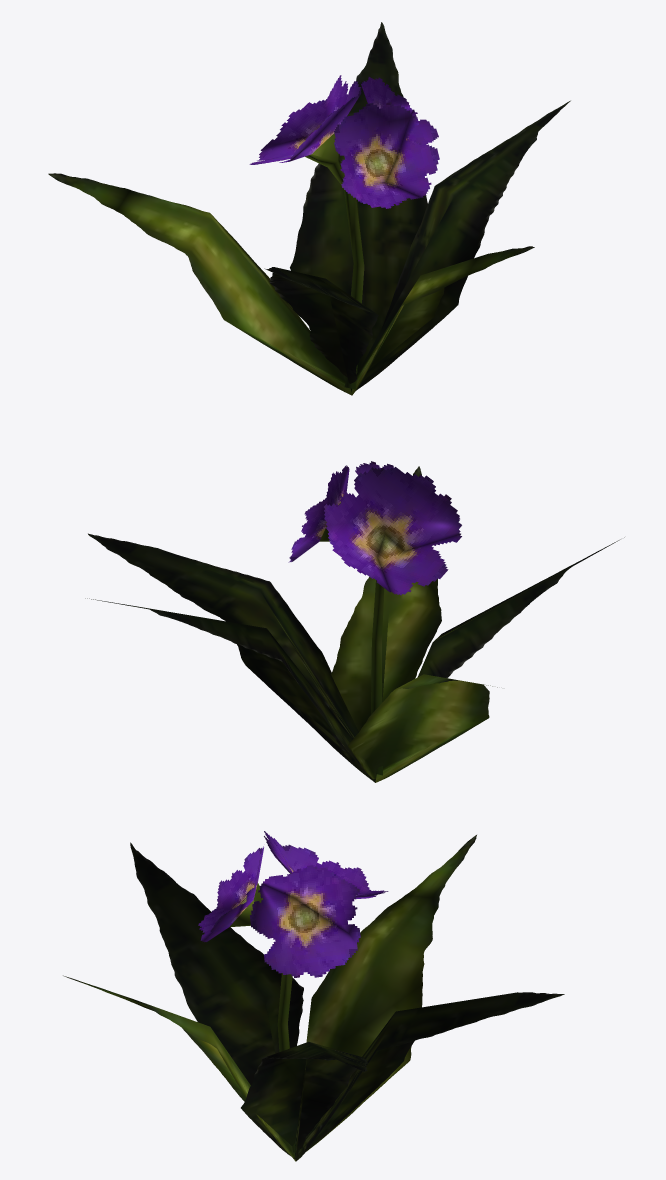
File: KM_PLANT_03.glb
3 renders of one model, top to bottom at view 1: azimuth 30°, elevation 25°; view 2: azimuth 150°, elevation 25°; view 3: azimuth 270°, elevation 25°, orthographic. The views are drawn at different scales.
Parts seen in each view (by area): view 1: Mesh; view 2: Mesh; view 3: Mesh.
Part boxes in pixels (<box>): Mesh: <box>48,22,570,395</box>; Mesh: <box>85,461,624,782</box>; Mesh: <box>63,831,564,1161</box>.
Bounding box in the file's own units: 0.5639 × 0.3311 × 0.5404.
2 materials, 2 textured.
